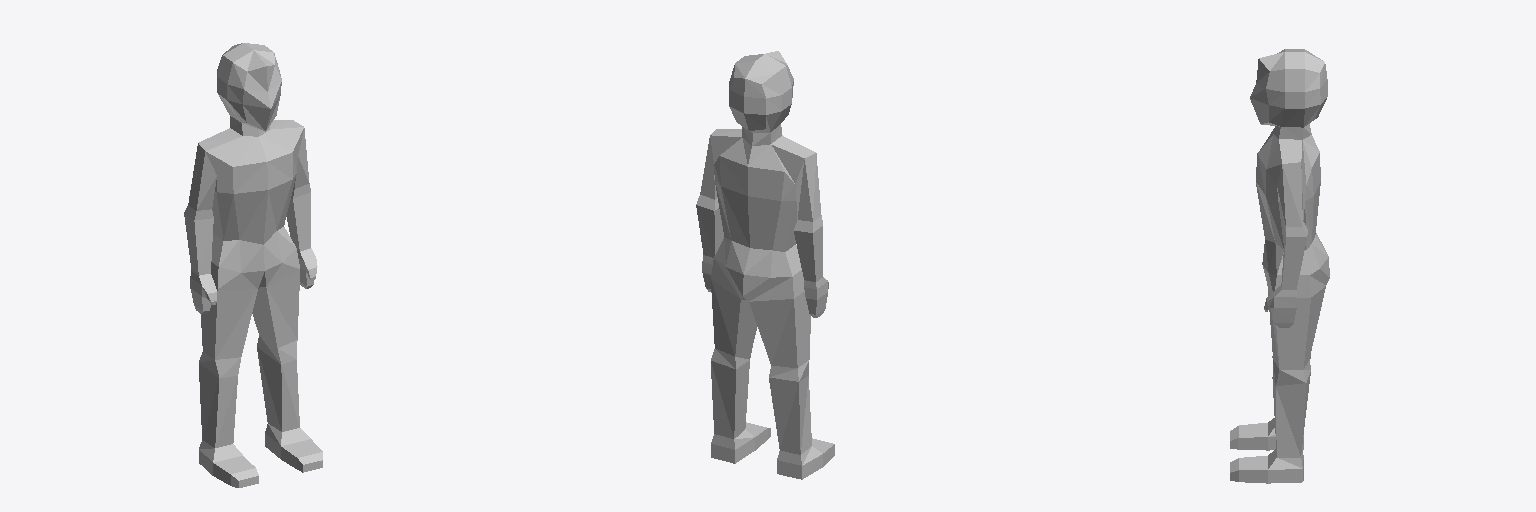
File: enemy.obj
The picture shows the model from 3 angles: view 1: azimuth 30°, elevation 25°; view 2: azimuth 150°, elevation 25°; view 3: azimuth 270°, elevation 25°; orthographic projection.
Parts seen in each view (by area): view 1: Cube; view 2: Cube; view 3: Cube.
Boxes of the visible parts, <box> form: Cube: <box>184,43,322,487</box>; Cube: <box>696,51,834,479</box>; Cube: <box>1230,49,1329,483</box>.
Bounding box in the file's own units: 4.45 × 14.84 × 3.3.